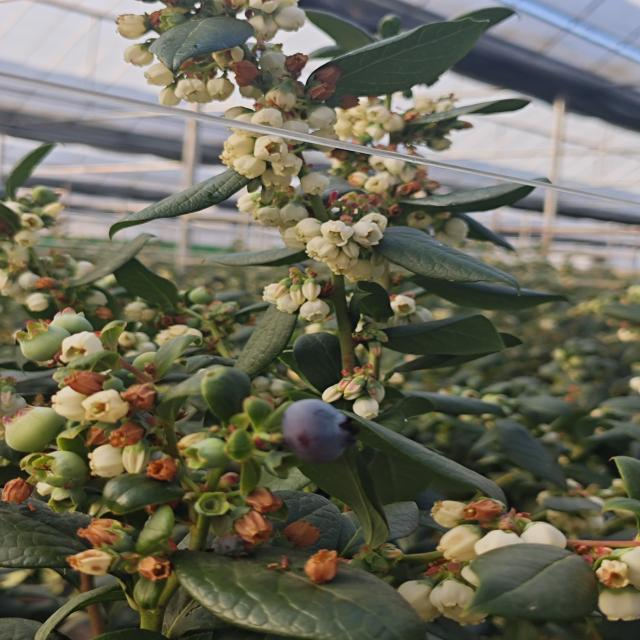ripe: (282, 394, 362, 470)
